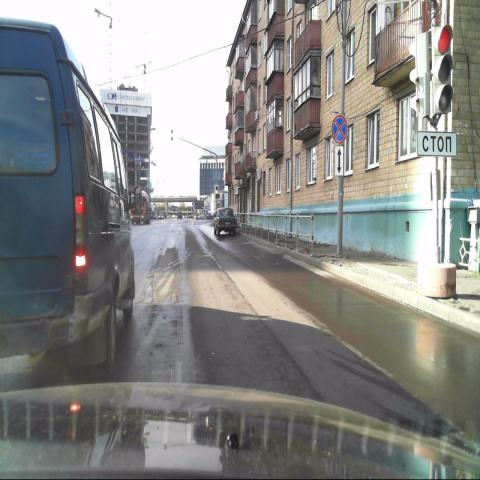8_2_4: (334, 145, 344, 178)
